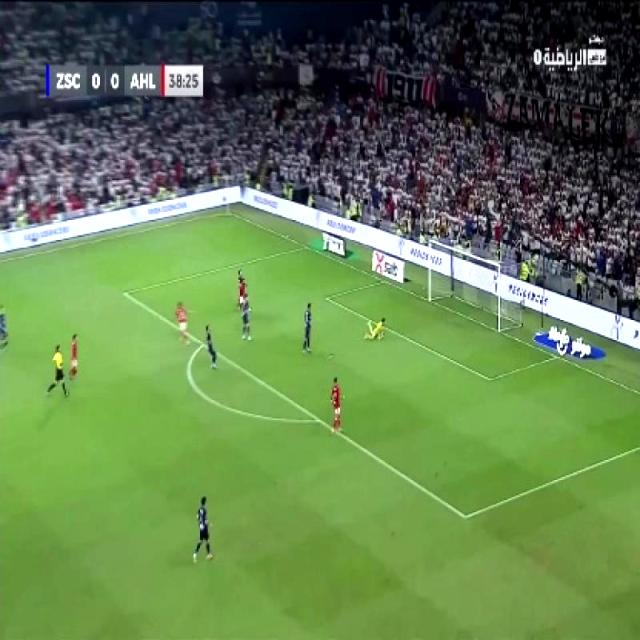bigarea_bottom_inner: (455, 501, 475, 529)
bigarea_top_inner: (116, 282, 132, 303)
bigarea_top_outter: (300, 238, 312, 252)
bottom_arc_area_intersection: (311, 409, 326, 429)
corner: (220, 206, 235, 219)
smallarea_bottom_inner: (482, 366, 496, 388)
smallarea_bottom_outter: (549, 348, 563, 362)
smallarea_top_inner: (320, 290, 334, 304)
smallarea_top_outter: (376, 272, 390, 288)
top_arc_area_intersection: (194, 334, 208, 352)
